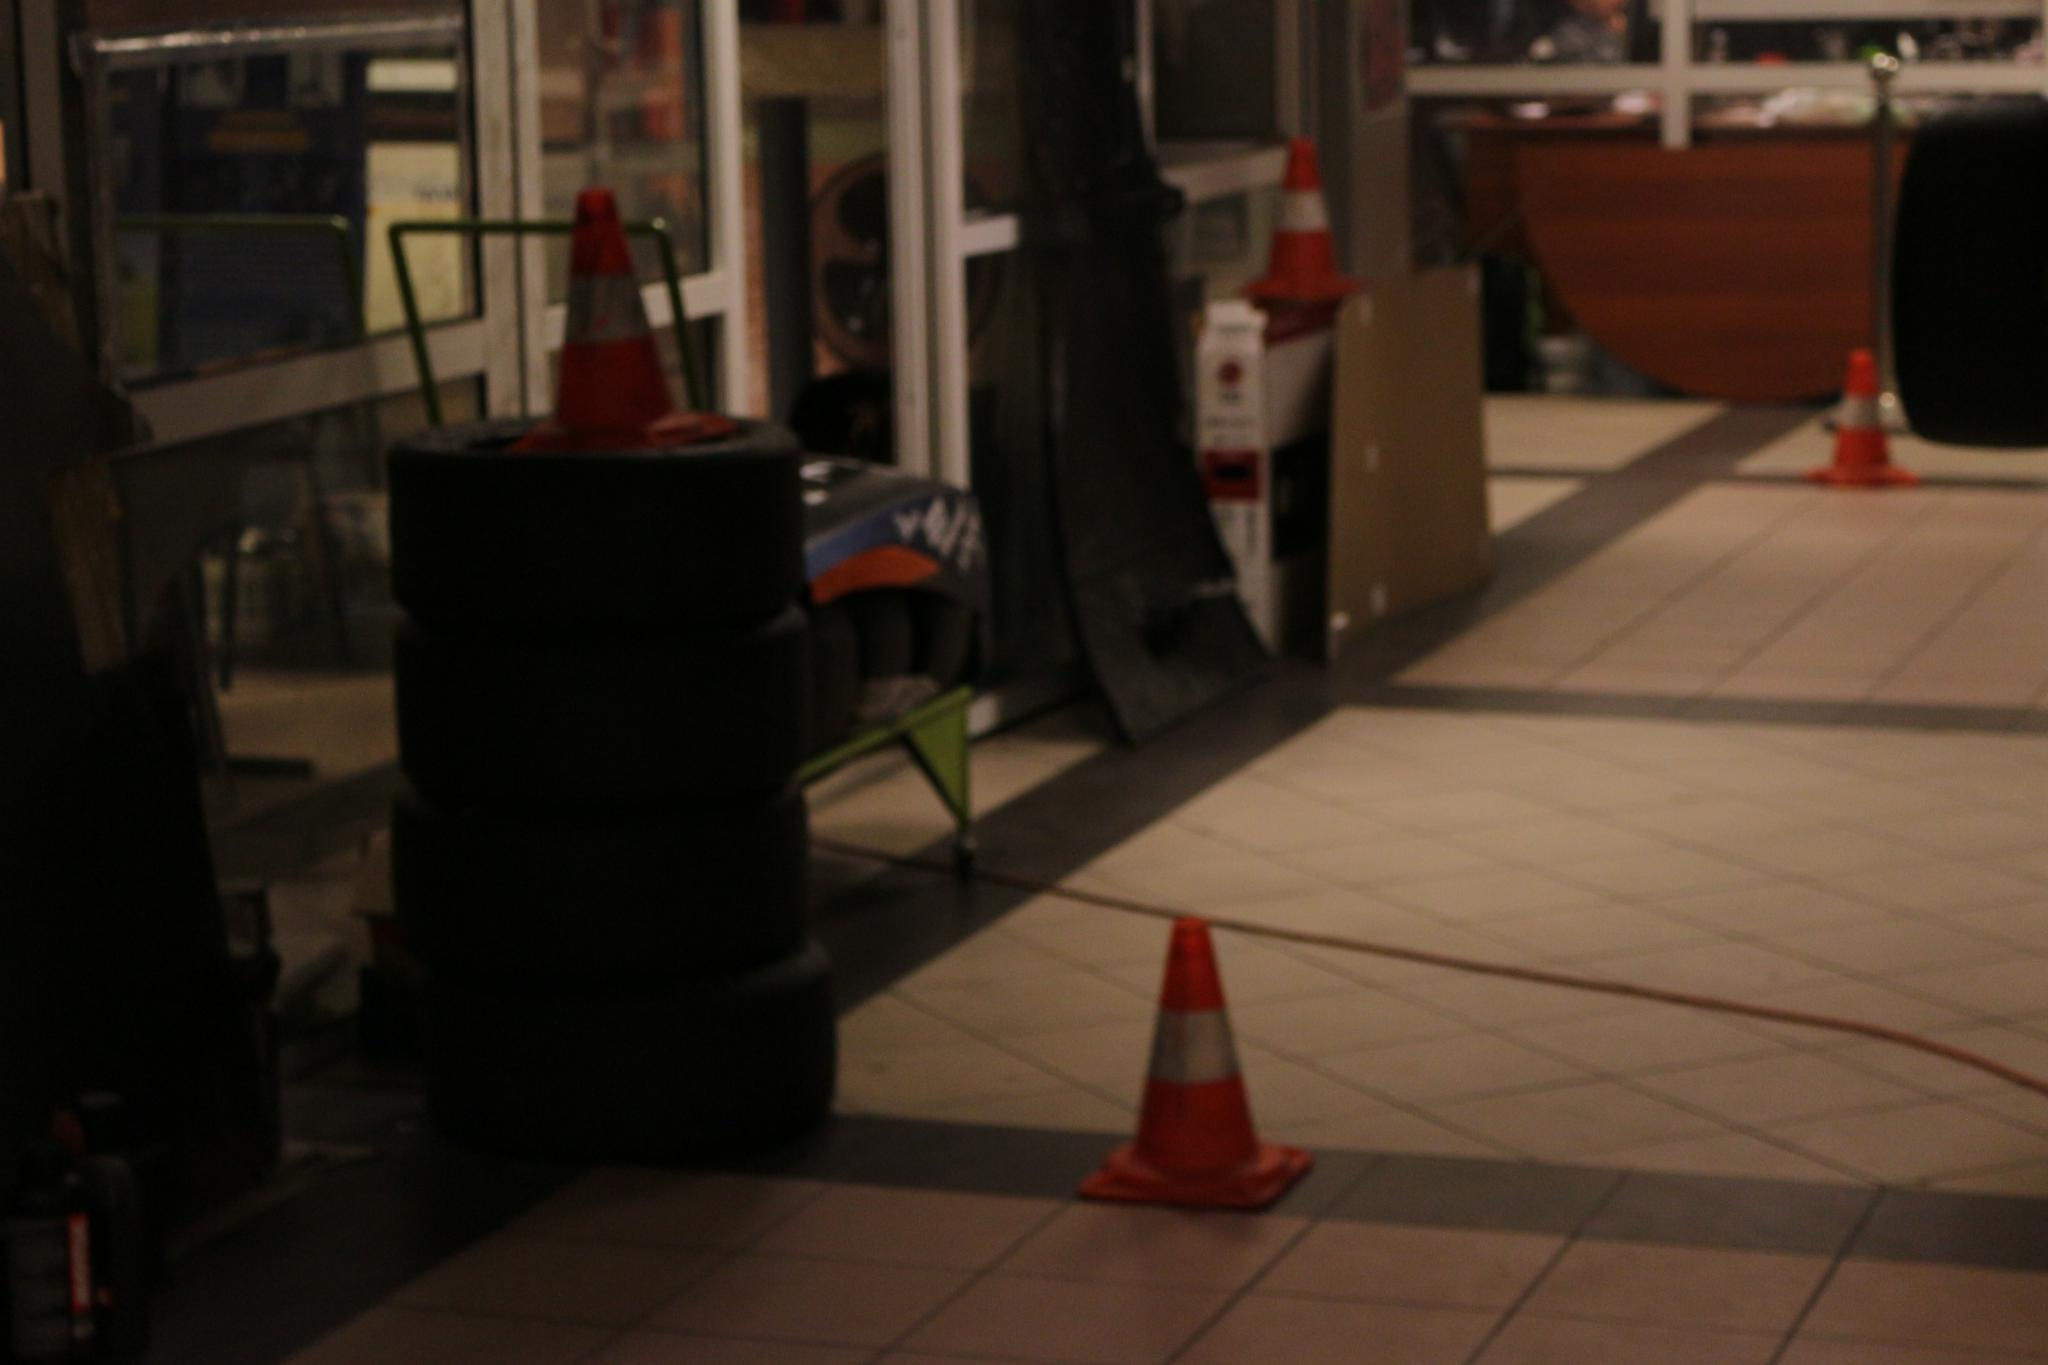Orange_Cone: (1070, 879, 1320, 1213), (504, 187, 724, 455), (1248, 121, 1374, 324), (1824, 341, 1914, 492)
